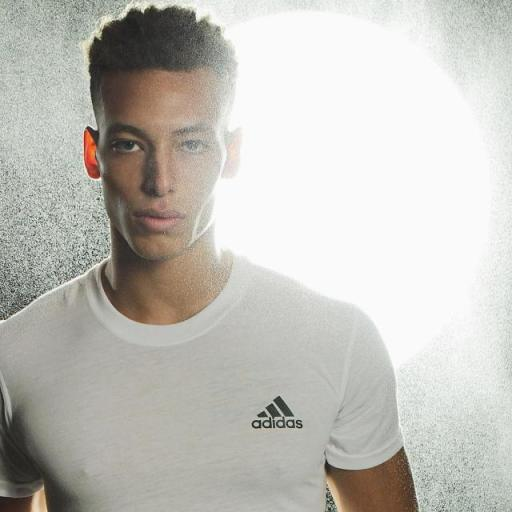Adidas: (249, 393, 305, 430)
